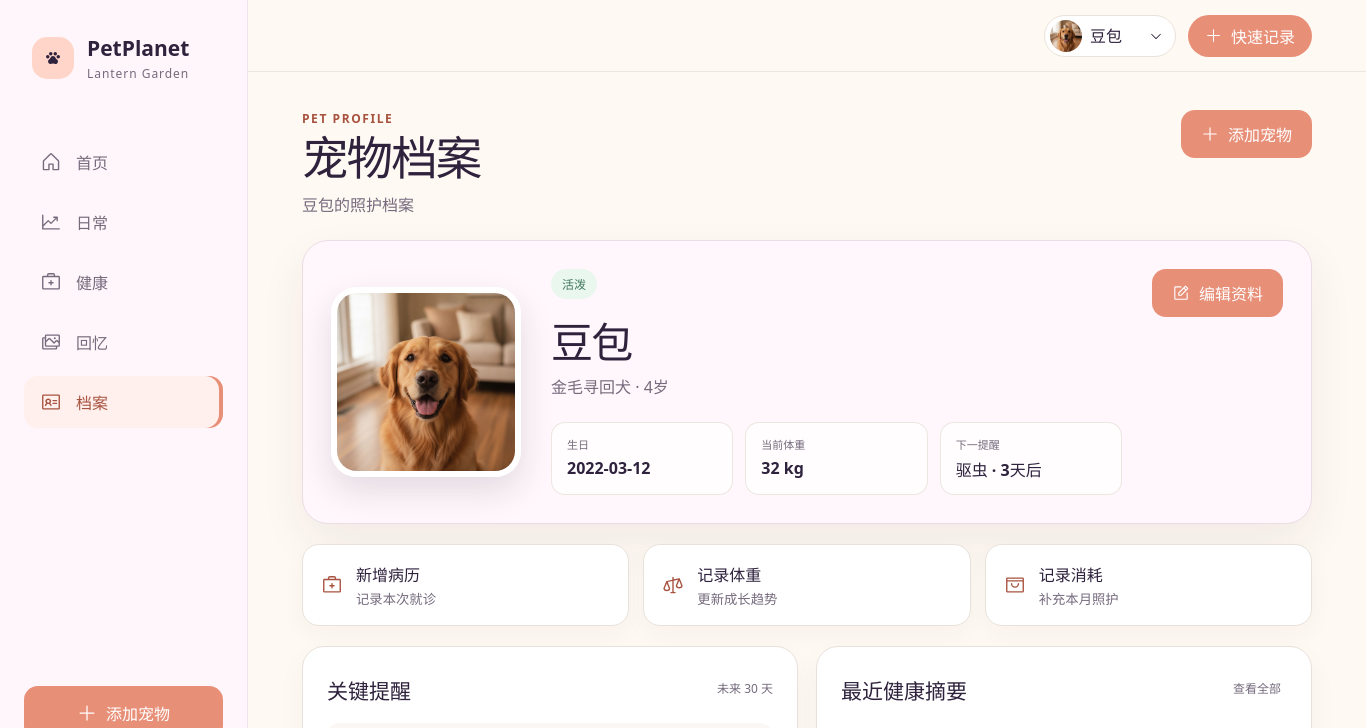
Test: PetPlanet app › keeps add and edit pet management inside the profile page
This screenshot has width=1366, height=728.
Expected: the heading "宠物档案" is shown, left=302, top=133, right=480, bottom=182
Click the button "添加宠物": (1246, 134) left=1181, top=110, right=1312, bottom=158
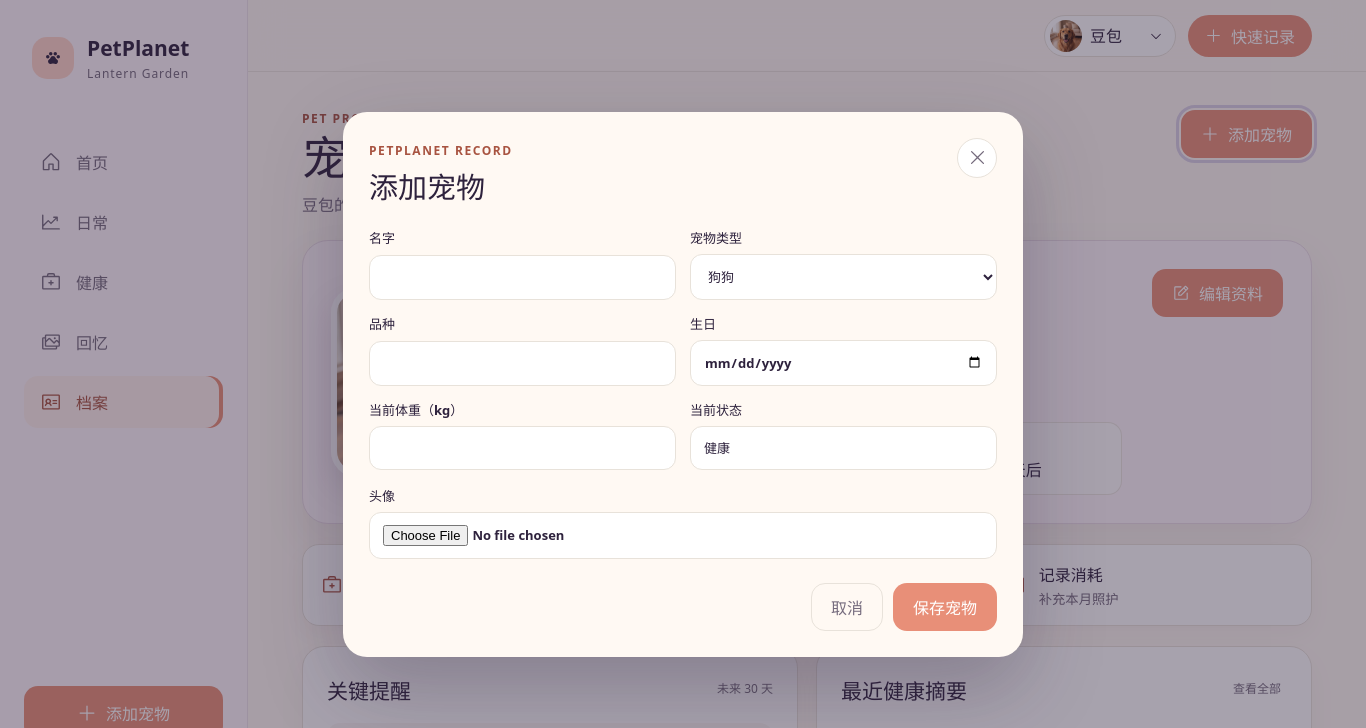
Now the dialog "添加宠物" is shown, box left=343, top=112, right=1023, bottom=656
Click the button "取消": (847, 606) left=811, top=582, right=883, bottom=630
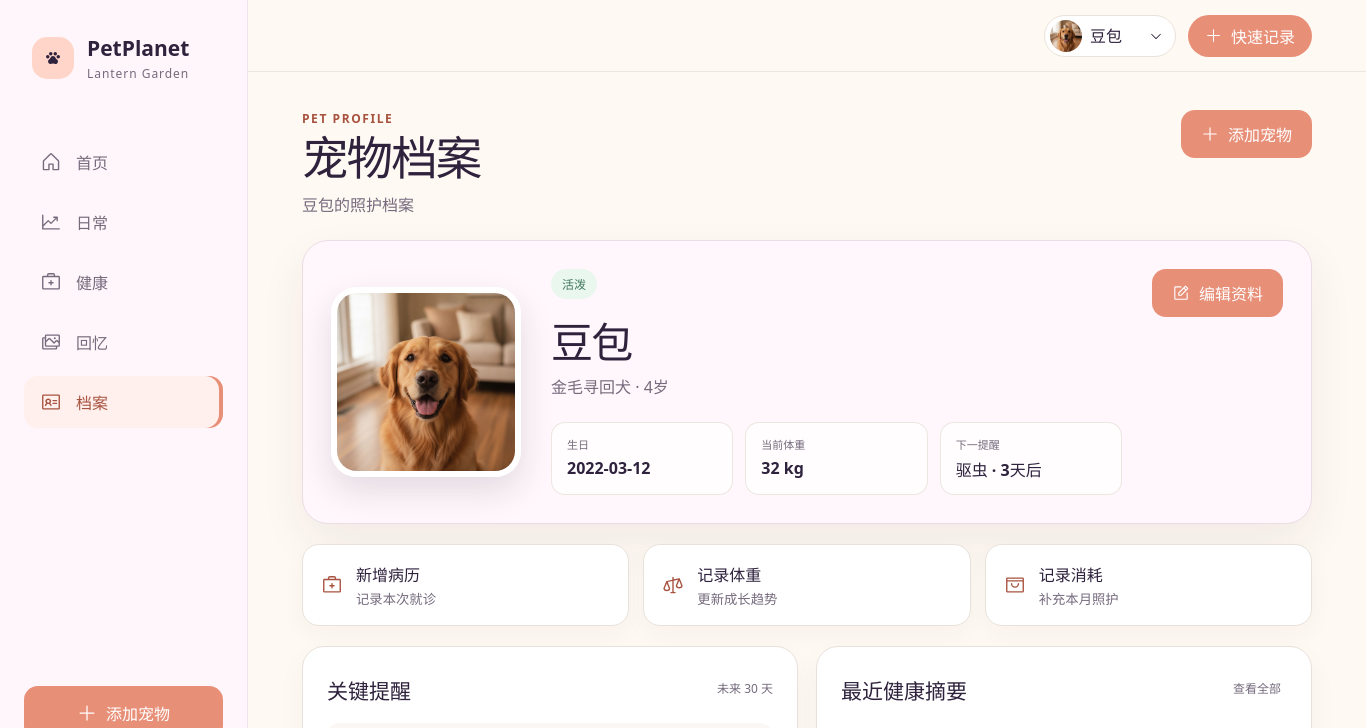
Click the button "编辑资料": (1218, 293) left=1152, top=269, right=1283, bottom=317
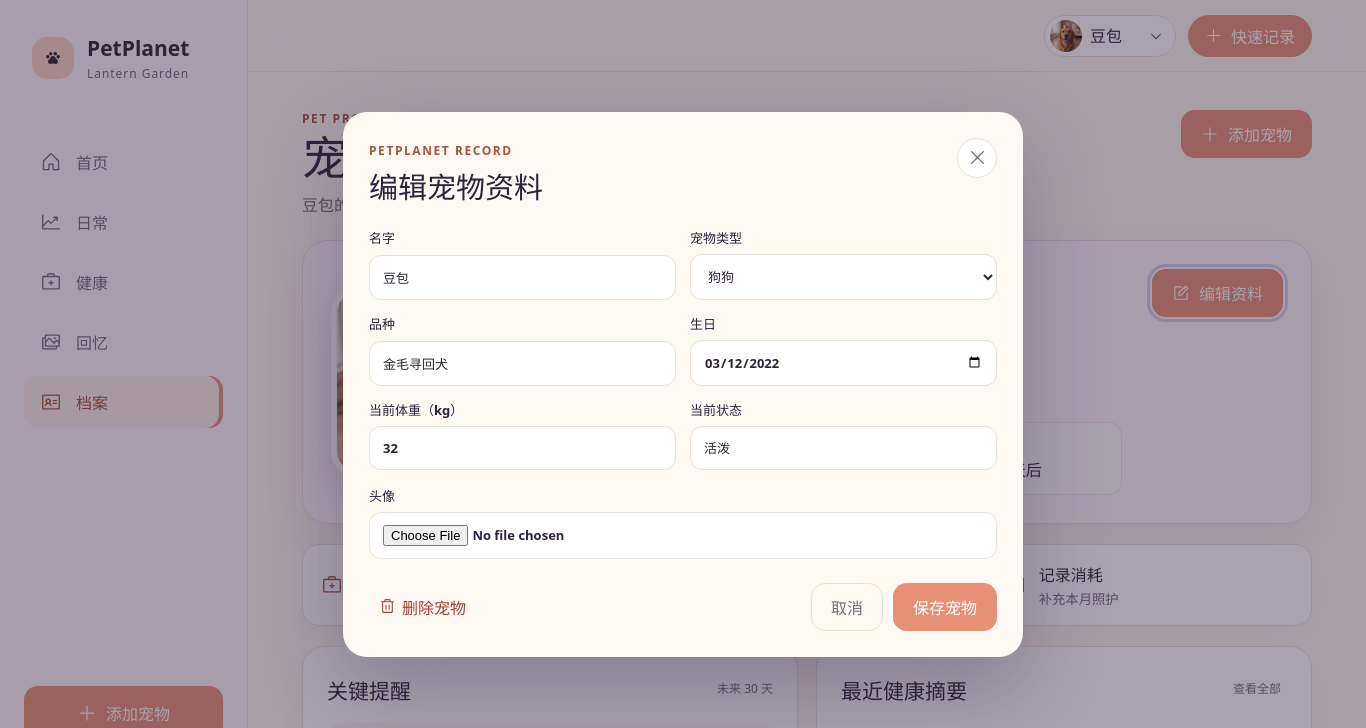
Now the dialog "编辑宠物资料" is shown, box left=343, top=112, right=1023, bottom=656
